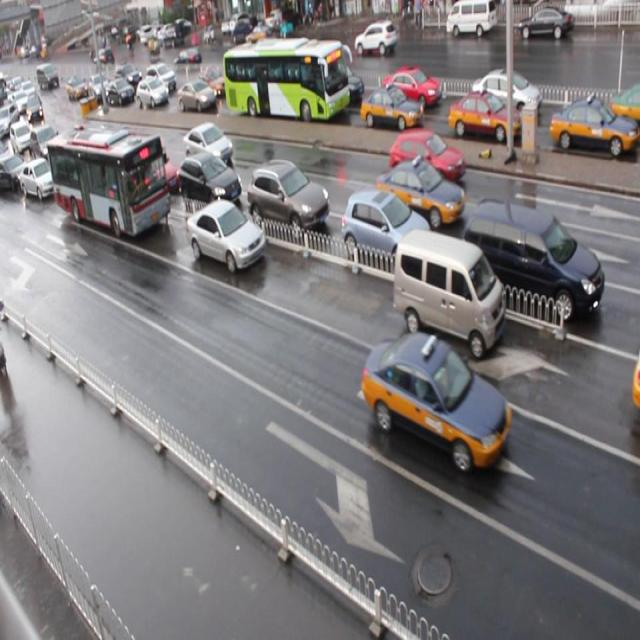car: (361, 332, 510, 472), (340, 188, 430, 272), (374, 157, 465, 231), (186, 198, 266, 273), (248, 159, 328, 233), (549, 96, 640, 160), (389, 129, 466, 191), (449, 91, 522, 145), (470, 68, 543, 122), (177, 150, 242, 208), (360, 86, 421, 134), (183, 120, 234, 170), (380, 69, 439, 111), (132, 145, 179, 194), (320, 61, 364, 108), (19, 159, 59, 200), (606, 85, 640, 132), (87, 134, 124, 174), (177, 79, 217, 114), (46, 132, 79, 171), (1, 151, 30, 194), (145, 60, 177, 96), (135, 78, 170, 109), (29, 128, 56, 162), (196, 70, 225, 99), (108, 79, 135, 107)
truck: (462, 195, 603, 326), (395, 228, 502, 360)
van: (46, 127, 170, 239), (222, 35, 348, 121)
